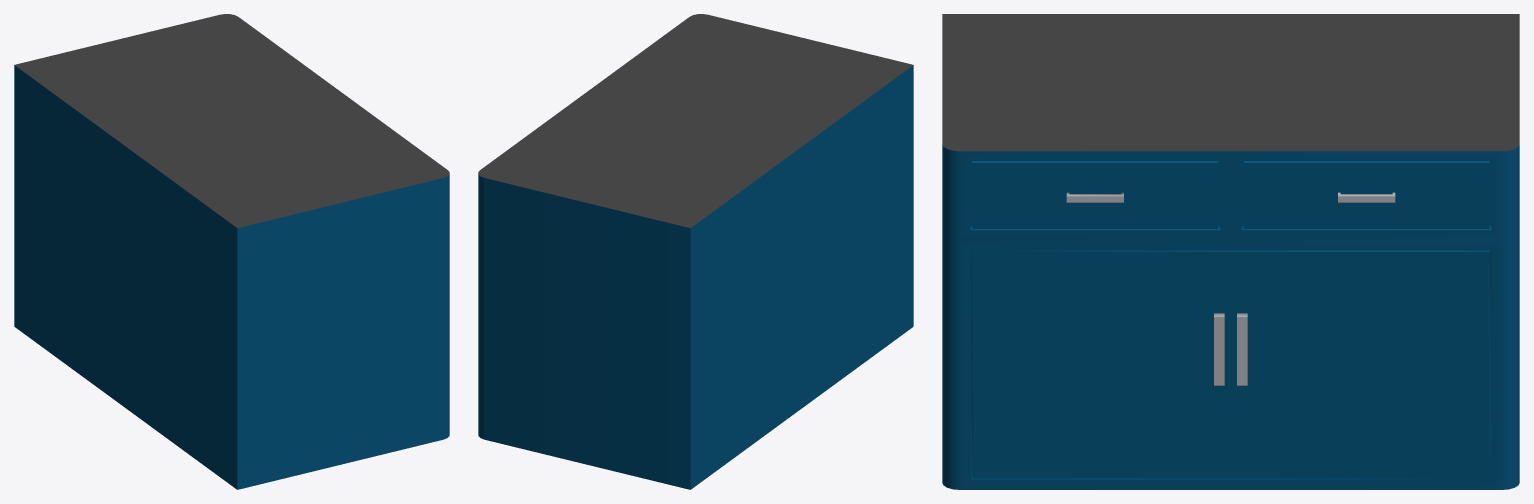
File: Cabinet_Generic.fbx
3 views of the same model, side by side, from view 1: azimuth 30°, elevation 25°; view 2: azimuth 150°, elevation 25°; view 3: azimuth 270°, elevation 25° (orthographic). The views are drawn at different scales.
Visible parts, largest first — view 1: Cabinet_Generic; view 2: Cabinet_Generic; view 3: Cabinet_Generic.
Part boxes in pixels (box(x1,y1,x2,y2)): Cabinet_Generic: box(14, 14, 449, 489); Cabinet_Generic: box(478, 14, 913, 489); Cabinet_Generic: box(942, 14, 1519, 489).
Size of the model in its own units: 2.73 by 3.05 by 4.72.
Materials: 1 (1 with a texture image).
